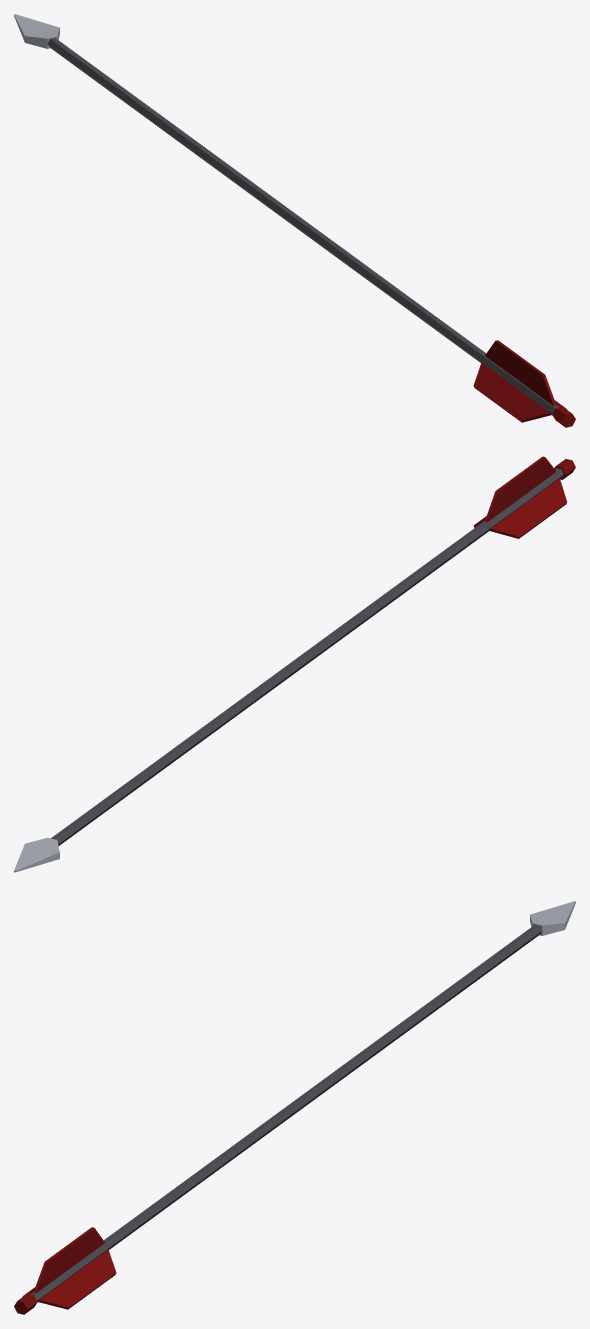
Rendered from Arrow.fbx.
The picture shows the model from 3 angles, top to bottom: view 1: azimuth 30°, elevation 25°; view 2: azimuth 150°, elevation 25°; view 3: azimuth 330°, elevation 25°; orthographic projection.
Parts seen in each view (by area): view 1: Arrow; view 2: Arrow; view 3: Arrow.
Boxes of the visible parts, x1=… form: Arrow: x1=14, y1=14, x2=575, y2=427; Arrow: x1=14, y1=456, x2=575, y2=872; Arrow: x1=14, y1=901, x2=575, y2=1314.
Bounding box in the file's own units: 0.0428 × 0.037 × 0.88.
